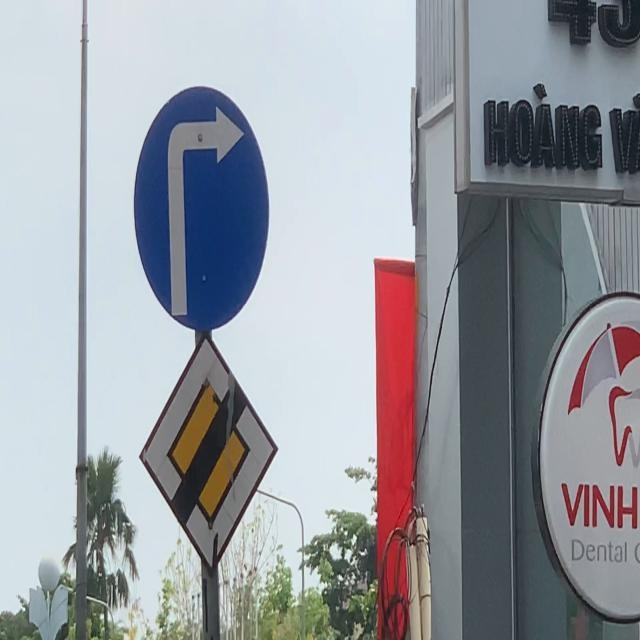bien_hieu_lenh: (133, 86, 270, 334)
